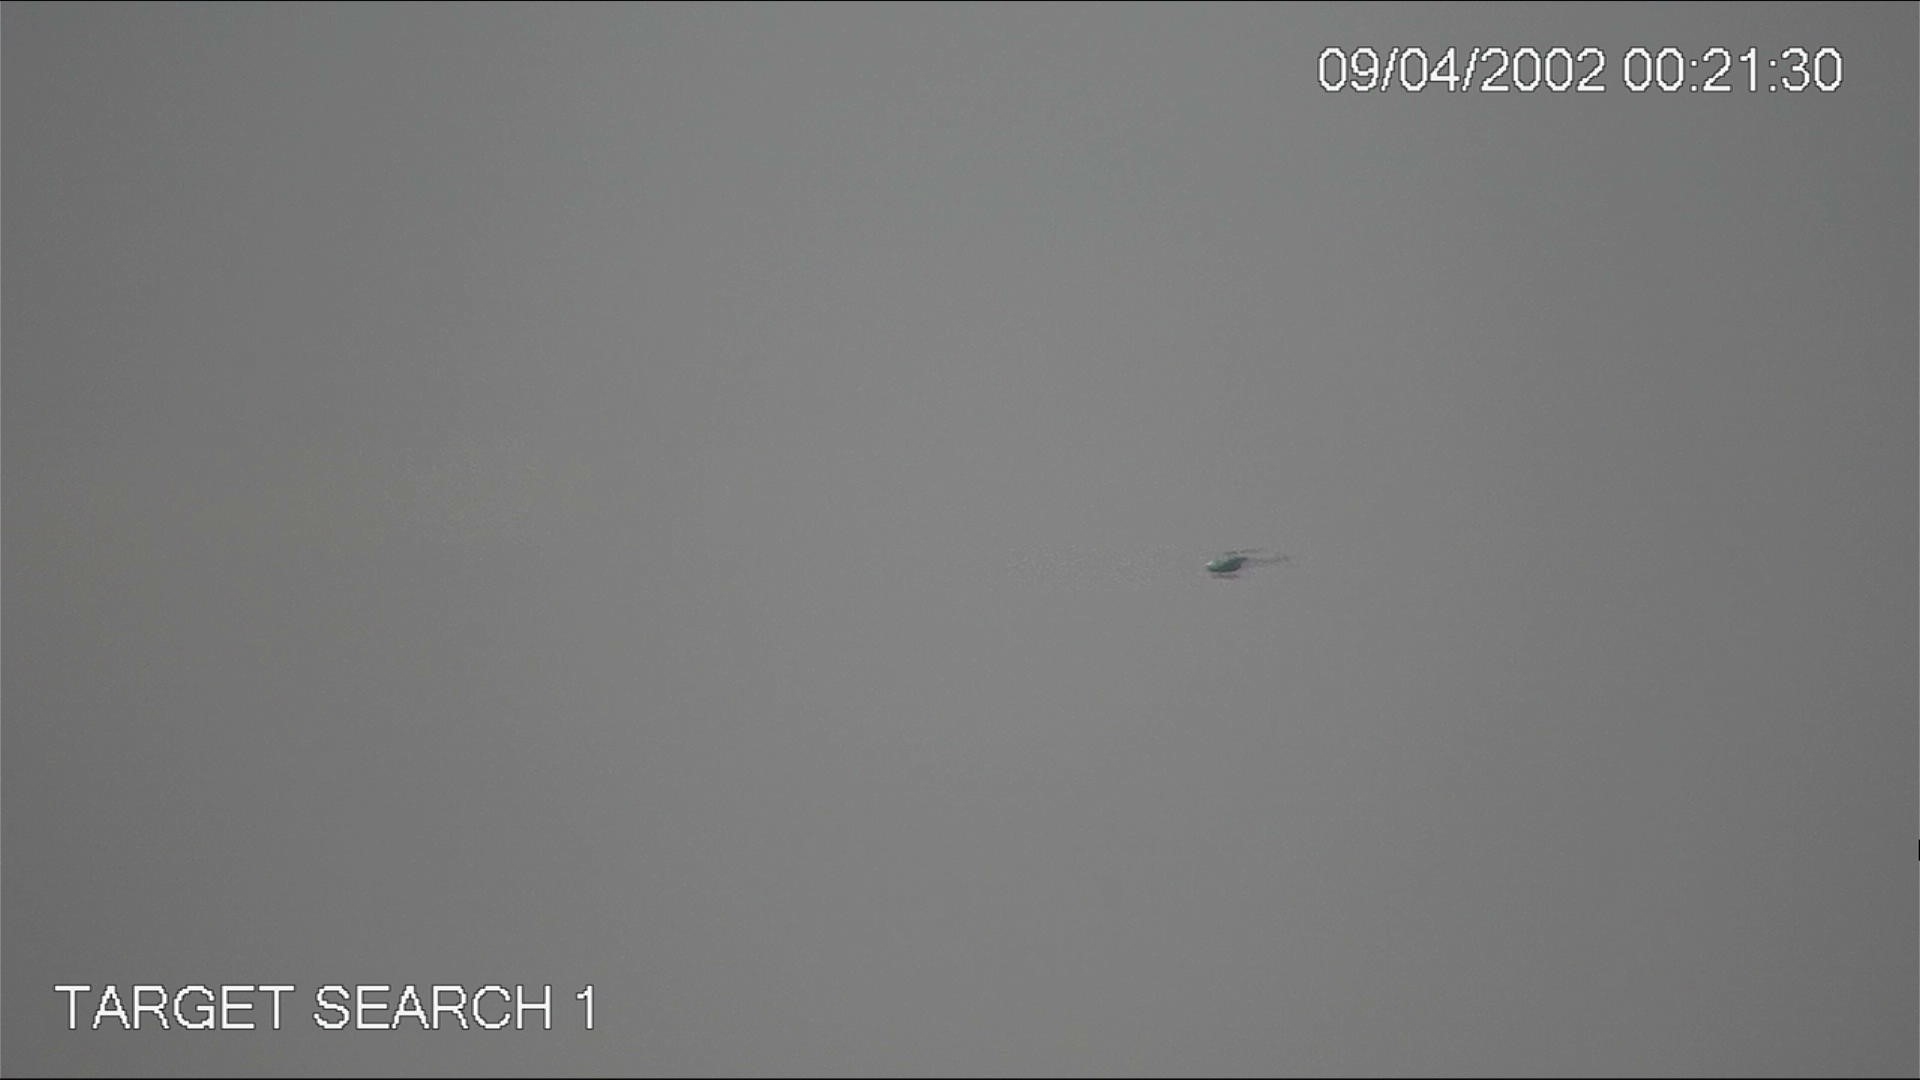SU_30: (1201, 545, 1255, 584)
